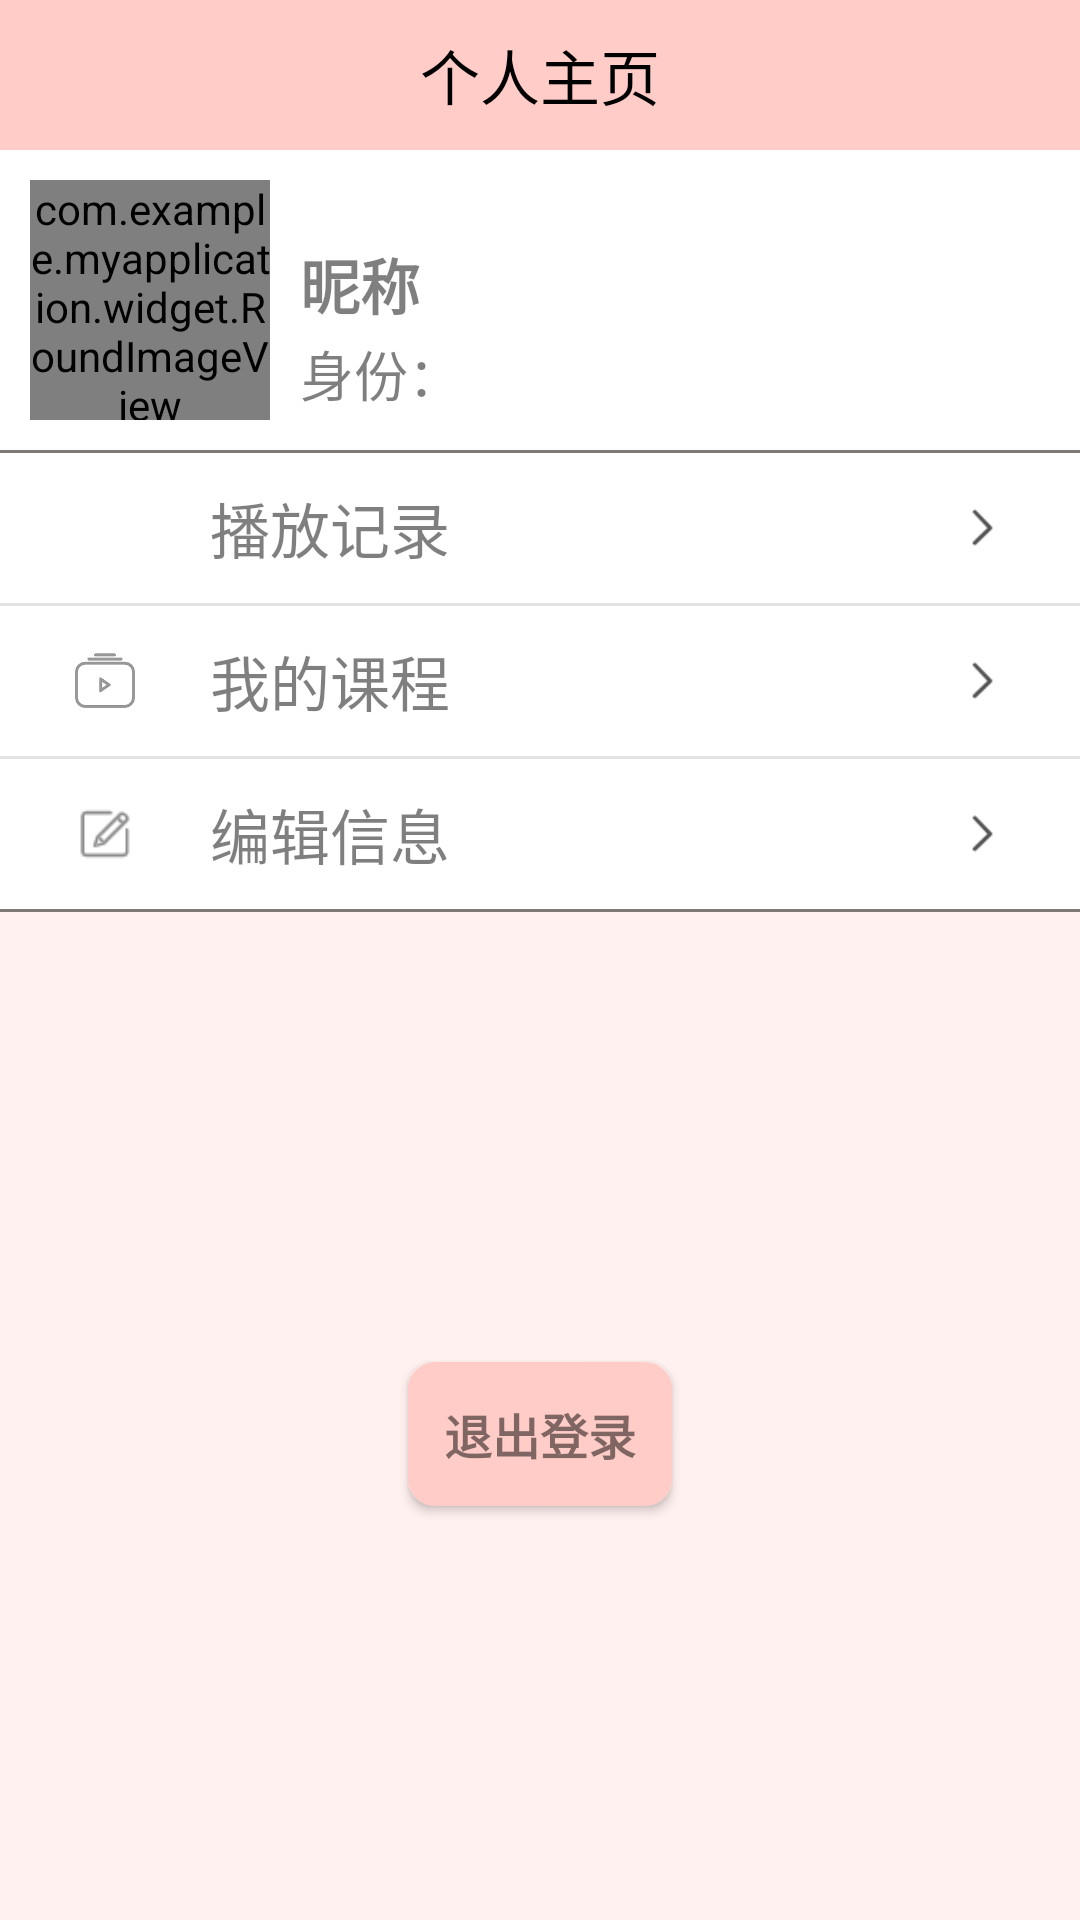

Named icons in this screenshot (1080px×1920px) and their bounding boxes, (x1, y1, x2, y2):
arrow forward: (972, 509, 993, 546), (972, 662, 993, 699), (972, 815, 993, 852)
course: (75, 653, 135, 708)
edit: (80, 810, 130, 858)
